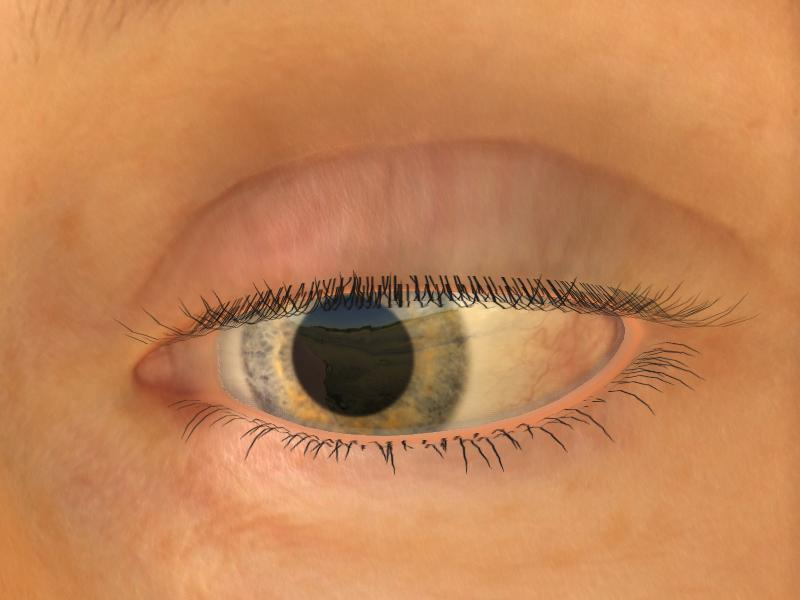eye: (243, 288, 469, 436)
